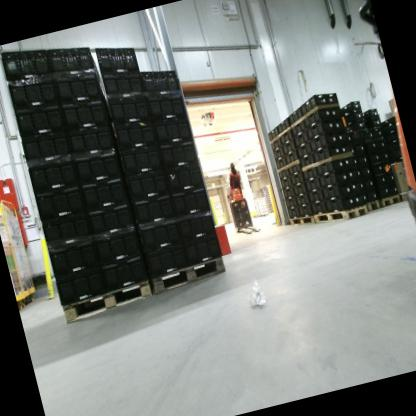pallet: (55, 271, 159, 329), (144, 250, 234, 304), (310, 198, 371, 233), (286, 209, 318, 234), (381, 190, 403, 210), (364, 197, 385, 216), (397, 191, 416, 207)
pallet_truck: (381, 85, 416, 228), (224, 172, 270, 248)
small_load_carrier: (45, 37, 107, 102), (9, 91, 69, 149), (50, 65, 109, 122), (0, 38, 56, 97), (92, 37, 144, 96), (21, 146, 79, 198), (1, 65, 61, 114), (49, 258, 108, 306), (71, 142, 126, 190), (31, 177, 87, 224), (37, 205, 93, 252), (66, 119, 119, 168), (138, 235, 192, 282), (14, 124, 74, 166), (90, 223, 147, 267), (44, 234, 98, 280), (100, 87, 150, 136), (76, 171, 132, 214), (99, 250, 154, 293), (85, 202, 139, 243), (60, 97, 115, 137), (93, 58, 145, 100), (130, 190, 180, 232), (135, 216, 188, 255), (116, 140, 165, 182), (110, 114, 157, 156), (124, 166, 172, 205), (139, 62, 182, 100), (172, 184, 216, 219), (158, 136, 200, 172), (146, 91, 189, 126), (299, 87, 343, 120), (183, 232, 226, 263), (178, 211, 221, 241), (308, 126, 349, 155), (167, 163, 206, 193), (153, 117, 194, 145), (303, 104, 344, 132), (312, 138, 353, 166), (316, 153, 357, 180), (305, 114, 346, 140), (318, 165, 359, 191), (322, 176, 361, 203), (325, 189, 366, 214), (285, 100, 306, 126), (342, 107, 365, 128), (339, 97, 363, 117), (292, 128, 312, 150), (277, 127, 297, 148), (274, 116, 294, 137), (295, 141, 315, 161), (298, 151, 316, 173), (288, 117, 307, 137), (364, 114, 385, 132), (280, 139, 299, 158), (306, 187, 325, 204), (311, 198, 328, 217), (301, 165, 319, 182), (304, 175, 323, 191), (271, 144, 287, 163), (298, 204, 315, 221), (268, 134, 285, 151), (273, 163, 290, 180), (266, 126, 282, 144), (289, 170, 306, 186), (283, 150, 300, 165), (286, 162, 304, 176), (295, 192, 311, 207), (272, 157, 288, 172), (364, 107, 380, 122), (284, 195, 298, 211), (281, 186, 295, 201), (292, 182, 308, 195), (279, 176, 292, 189), (288, 207, 301, 220), (354, 121, 367, 133)
